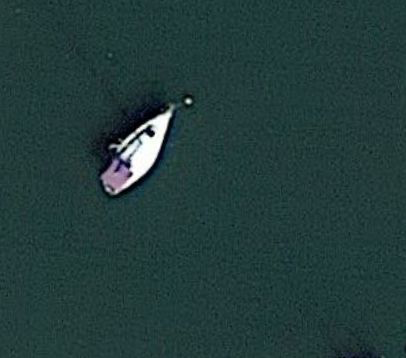boat: (96, 104, 179, 200)
